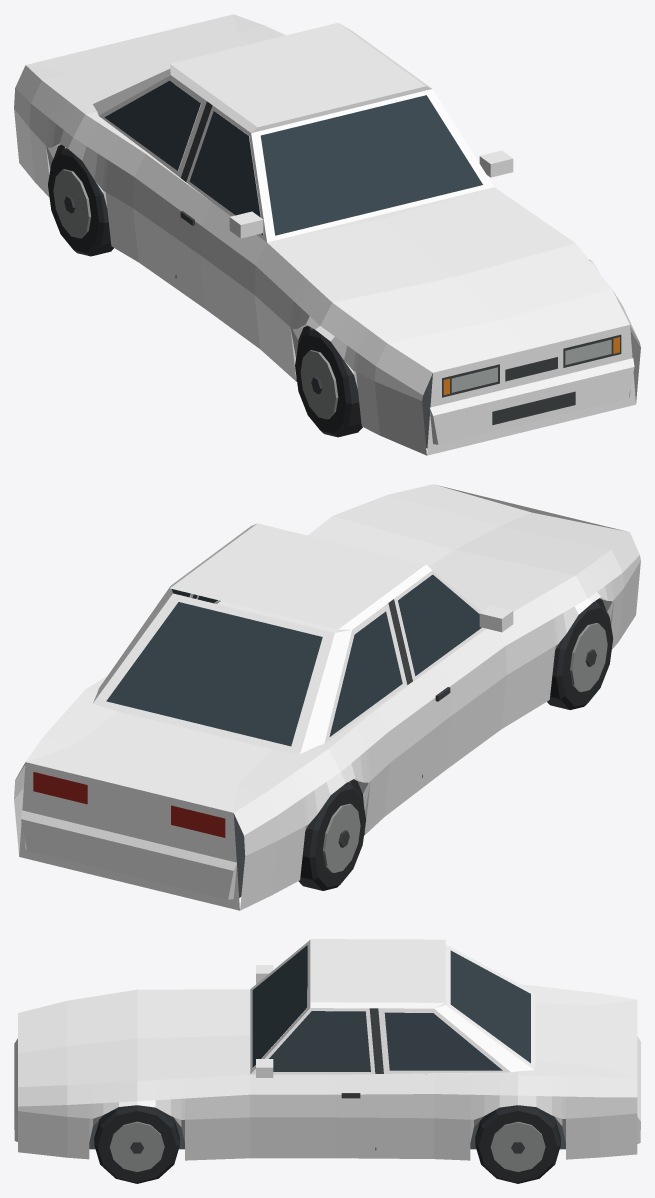
Rendered from hozuki_harusame_s_ii.glb.
3 renders of one model, top to bottom at view 1: azimuth 30°, elevation 25°; view 2: azimuth 150°, elevation 25°; view 3: azimuth 270°, elevation 25°, orthographic. The views are drawn at different scales.
Visible parts, largest first — view 1: hozuki_harusame_s_ii; view 2: hozuki_harusame_s_ii; view 3: hozuki_harusame_s_ii.
Part boxes in pixels (x1=…): hozuki_harusame_s_ii: x1=14, y1=14, x2=640, y2=455; hozuki_harusame_s_ii: x1=14, y1=484, x2=640, y2=910; hozuki_harusame_s_ii: x1=14, y1=939, x2=640, y2=1183.
Bounding box in the file's own units: 1.72 × 1.26 × 4.36.
8 materials, 1 textured.
